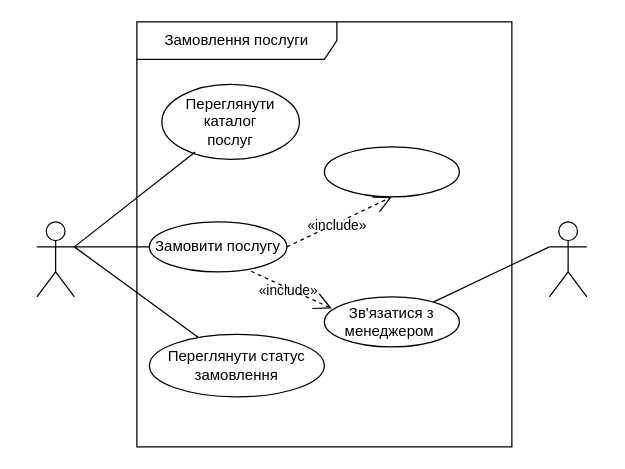
Some shapes in this 625 by 469 pixel diagram are drawn without their labels. Here are the shapes that lost their labels. From the top down, the box of each, then its label:
(323, 146, 459, 197): Оплатити замовлення
(36, 221, 74, 297): Замовник
(548, 221, 587, 297): Менеджер
